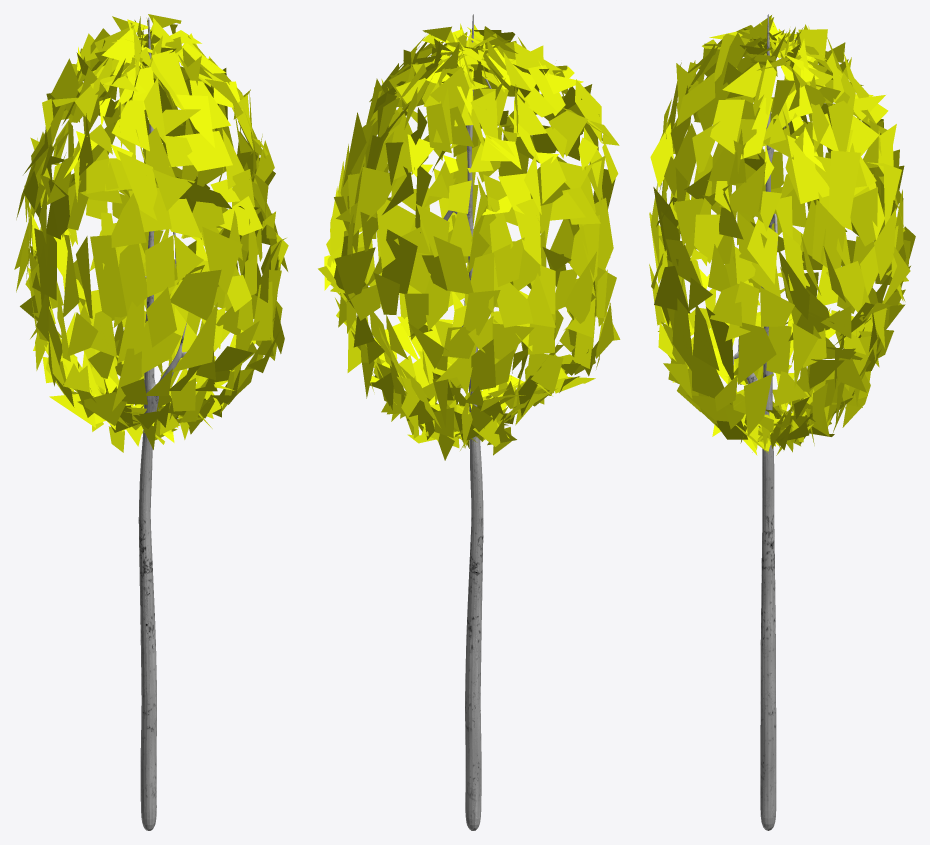
File: Leaves22.fbx
The picture shows the model from 3 angles, left to right: view 1: azimuth 30°, elevation 25°; view 2: azimuth 150°, elevation 25°; view 3: azimuth 270°, elevation 25°; orthographic projection.
Visible parts, largest first — view 1: Leaves22; view 2: Leaves22; view 3: Leaves22.
Boxes of the visible parts, left/top/right/bottom form: Leaves22: left=14, top=14, right=288, bottom=830; Leaves22: left=318, top=14, right=620, bottom=830; Leaves22: left=649, top=14, right=915, bottom=830.
Bounding box in the file's own units: 816 × 2574 × 762.
Materials: 2 (1 with a texture image).
